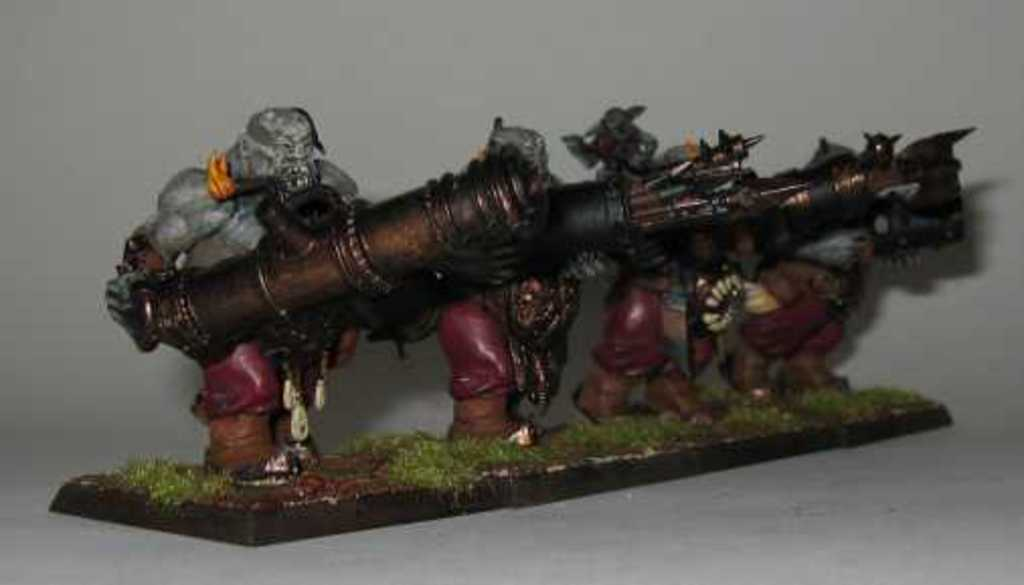Person: (103, 106, 357, 484), (359, 115, 624, 445), (683, 131, 929, 406), (564, 104, 749, 426)
